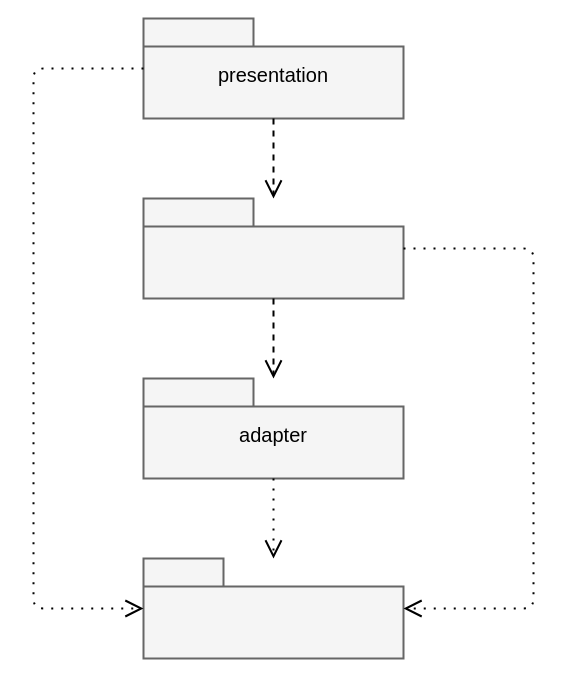
Image size: 567x676. Some labels were removed from this diagram. The shapes that lost their labels are listed below. From the top down, each one's centre as x and y in pixels, then its label:
At (273,248): "application".
At (273,608): "utils".
